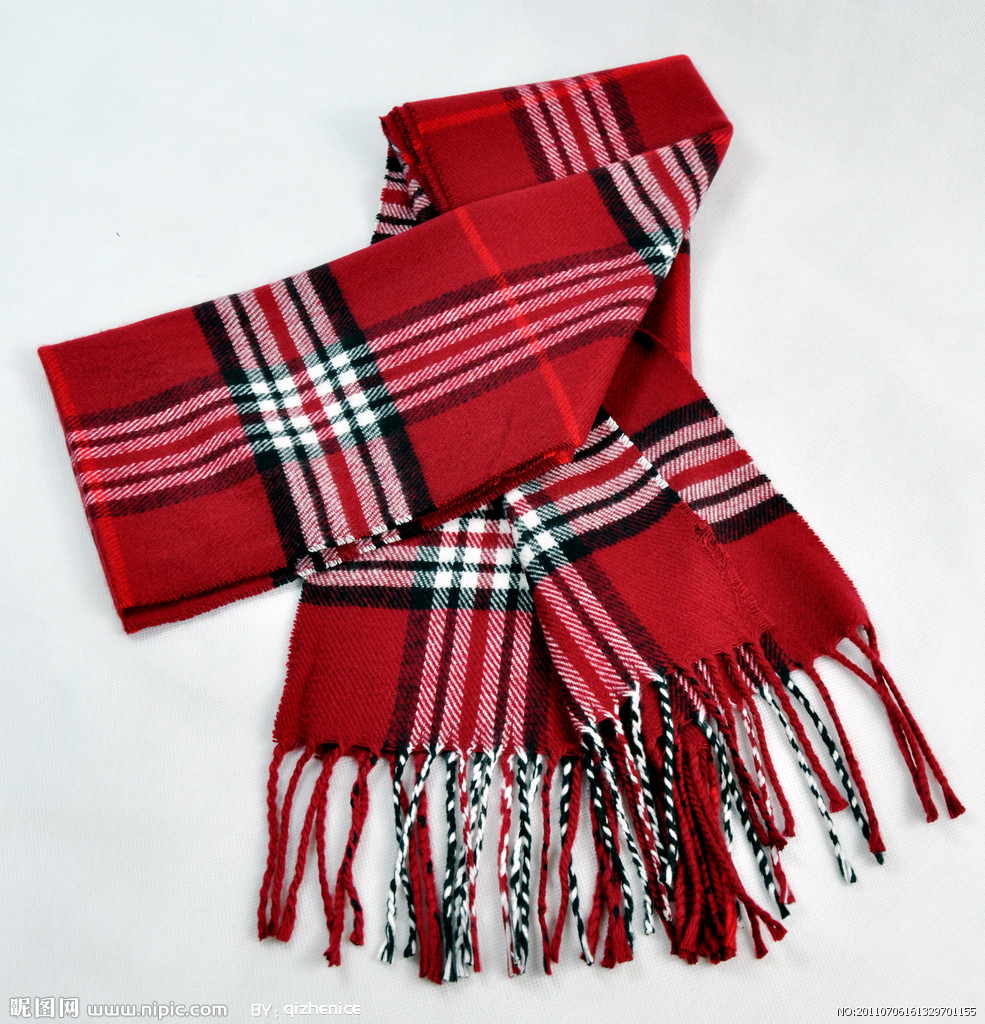flexible: (41, 56, 967, 976)
